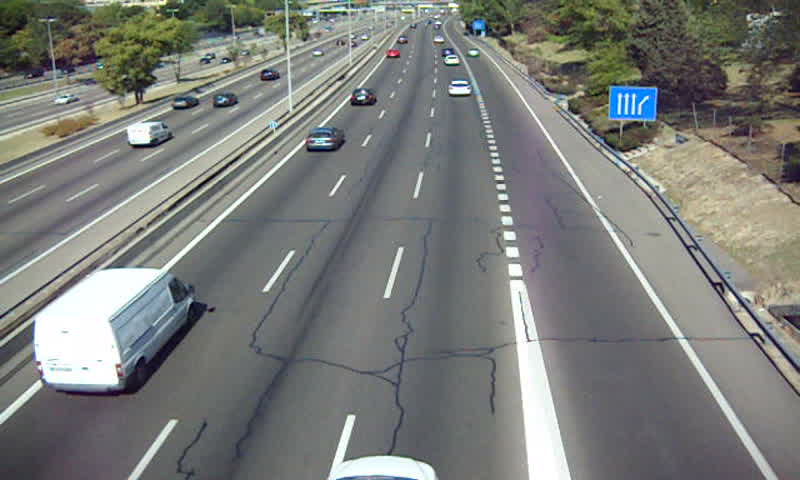car: (305, 128, 345, 152), (350, 86, 376, 106), (446, 79, 473, 96), (443, 54, 462, 66), (385, 48, 403, 59)
van: (35, 268, 193, 396)
